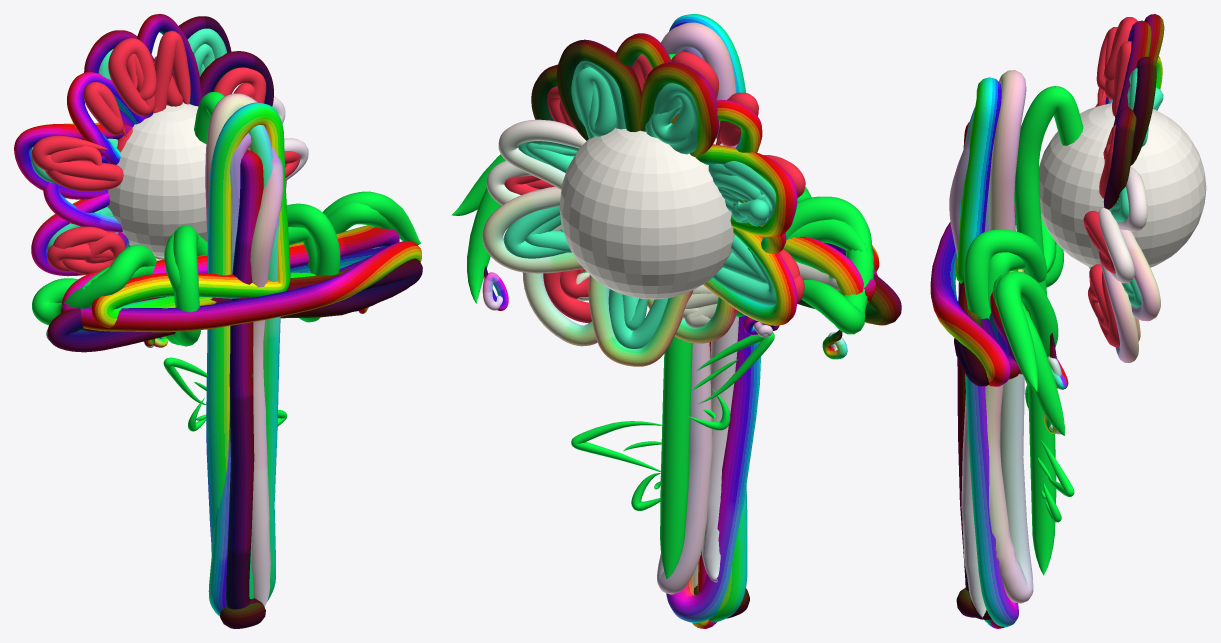
File: flowercross.glb
The picture shows the model from 3 angles, left to right: view 1: azimuth 30°, elevation 25°; view 2: azimuth 150°, elevation 25°; view 3: azimuth 270°, elevation 25°; orthographic projection. The views are drawn at different scales.
Visible parts, largest first — view 1: flowercross; view 2: flowercross; view 3: flowercross.
Part boxes in pixels (x1=…): flowercross: x1=14, y1=14, x2=422, y2=628; flowercross: x1=451, y1=14, x2=901, y2=628; flowercross: x1=930, y1=14, x2=1206, y2=628.
Bounding box in the file's own units: 0.9062 × 1.29 × 0.5399.
Materials: 1 (1 with a texture image).
